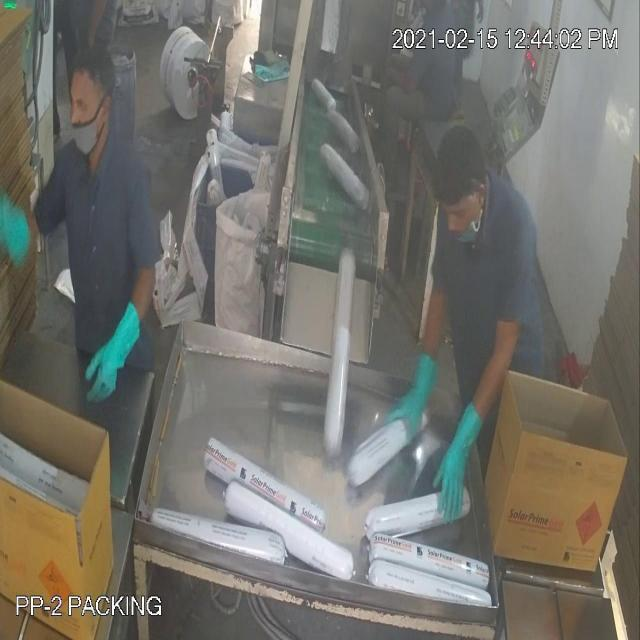Gloves: (49, 47, 464, 467)
